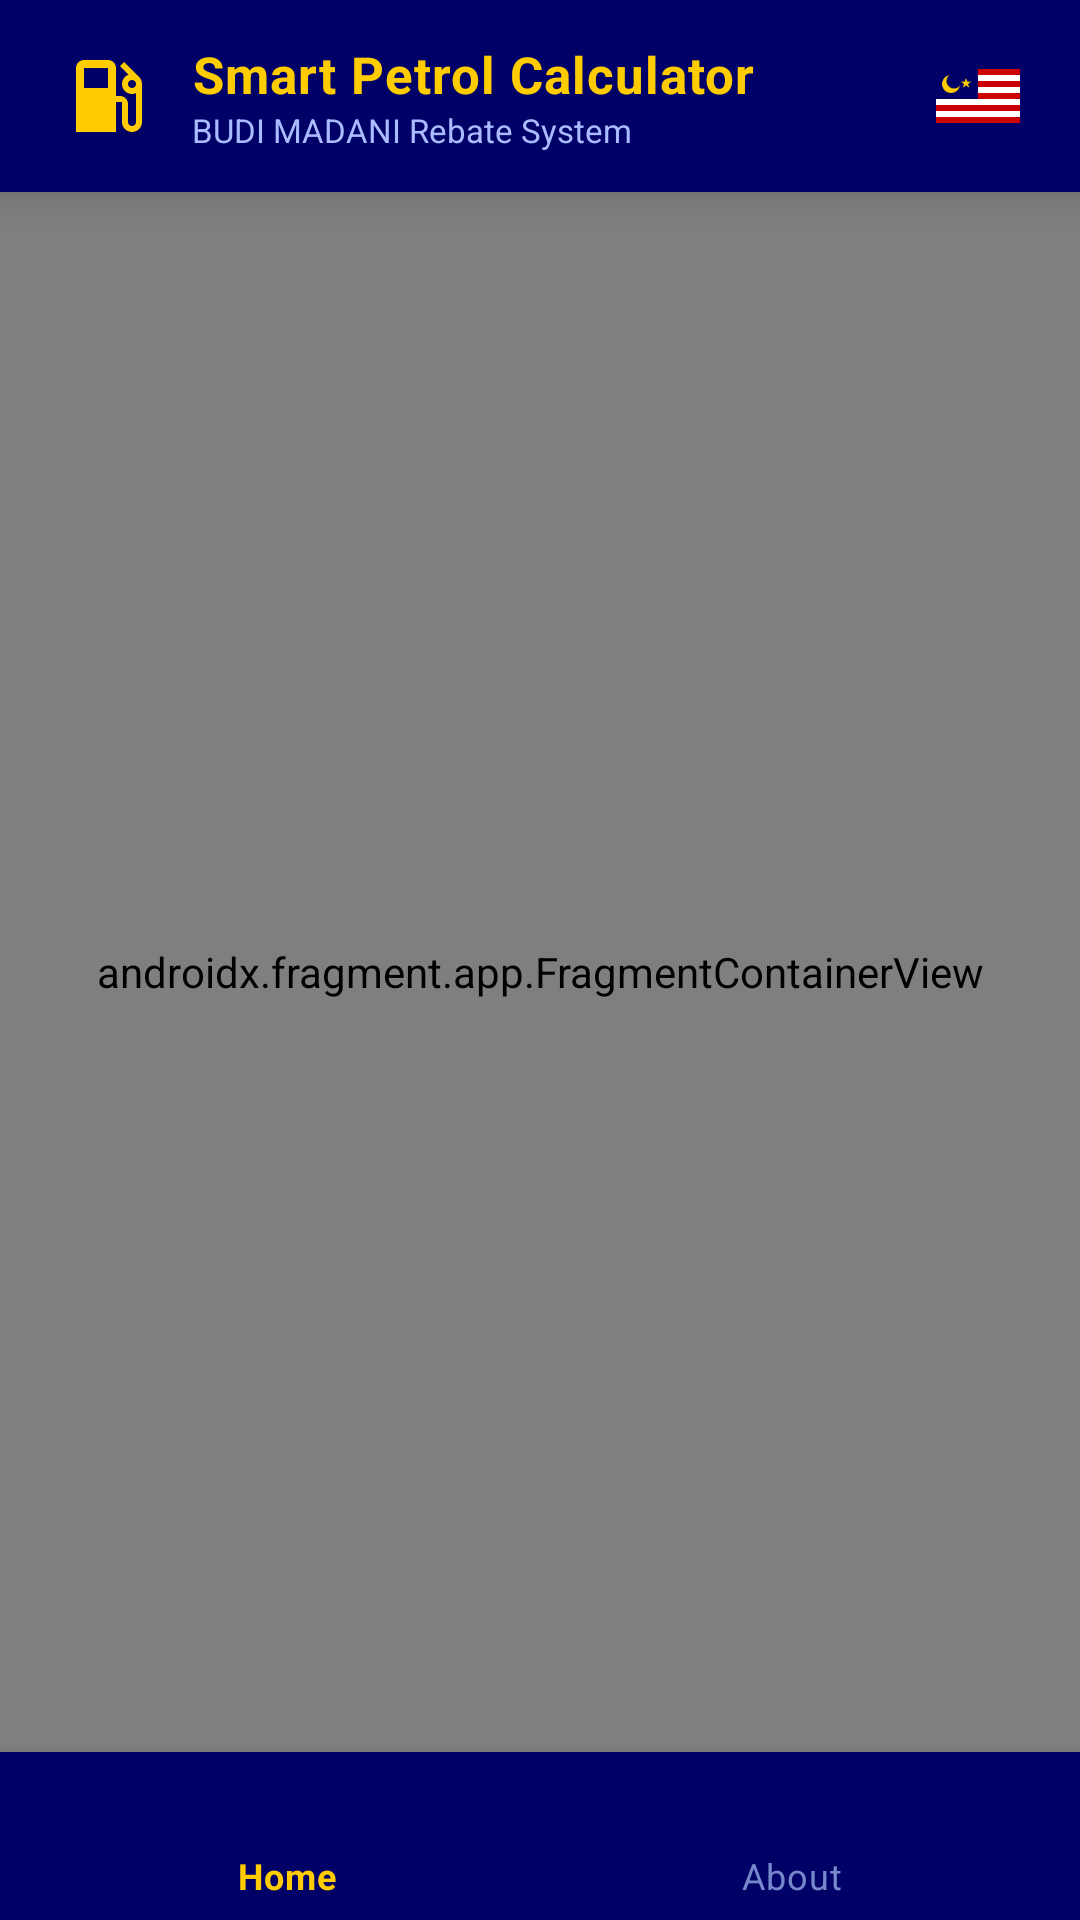

Named icons in this screenshot (1080px x 1920px) and their centers, point (x, y):
Malaysia Flag: point (978, 96)
